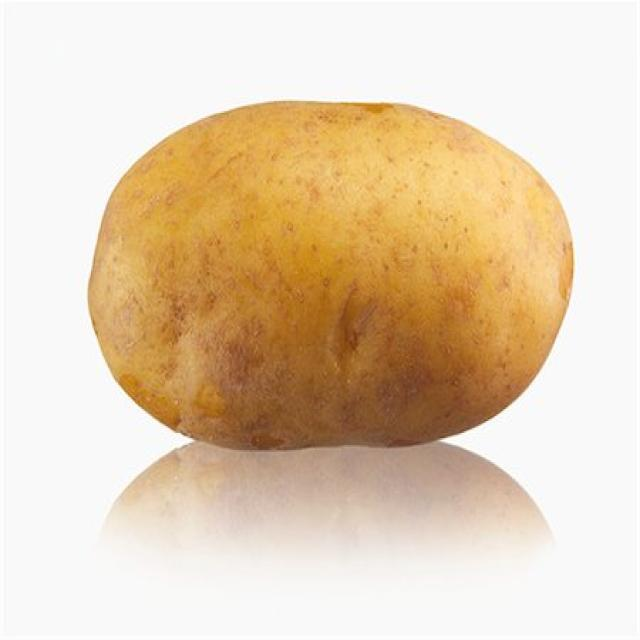potato: (86, 101, 574, 450)
